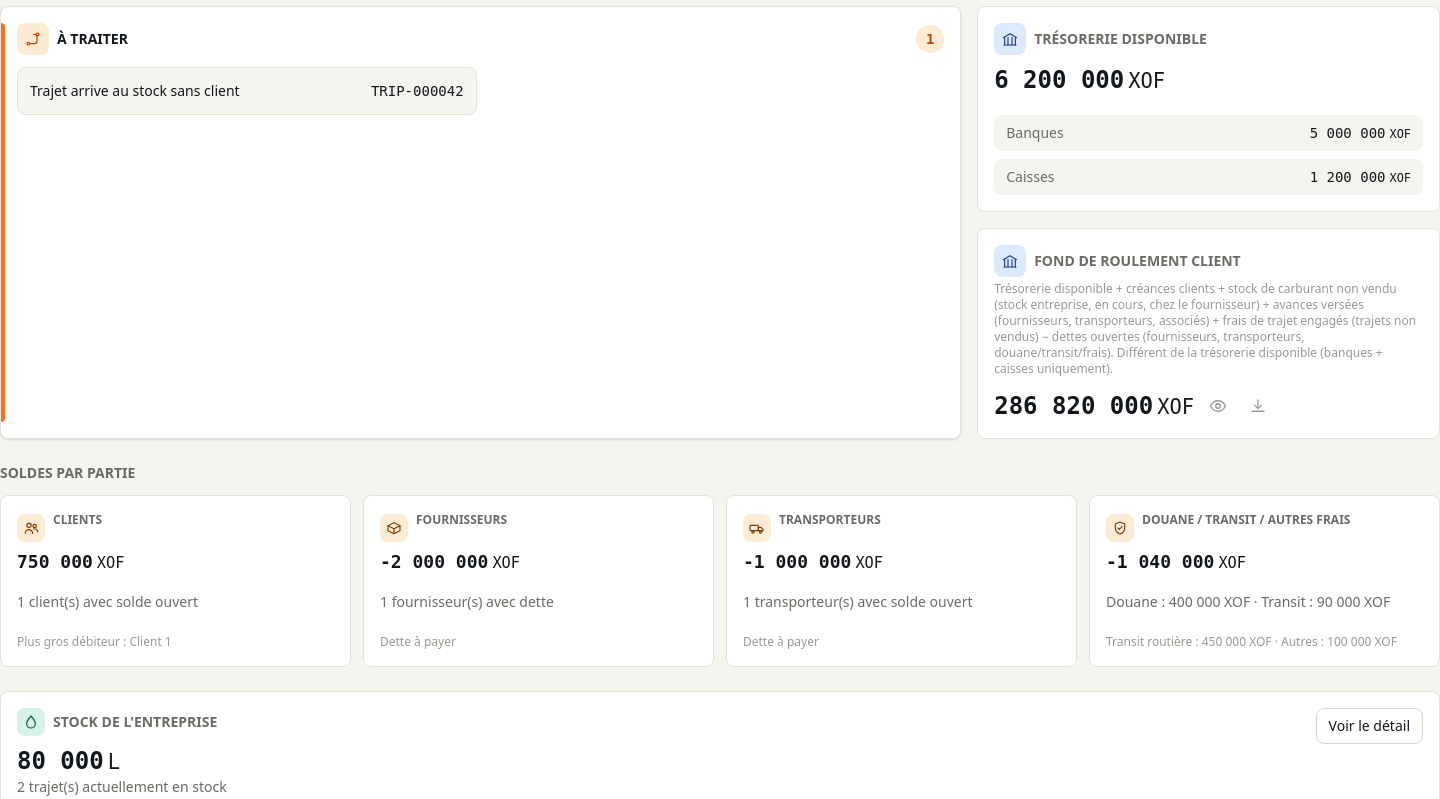
Test: DashboardView › deducts the open debts: 300M brut + 45M stock - 45M - 2.925M - 10.255M = 286.82M
(page scrolled)
Step 1. Click the button with test id "working-capital-toggle" → click(1218, 406), box [1202,390,1234,422]
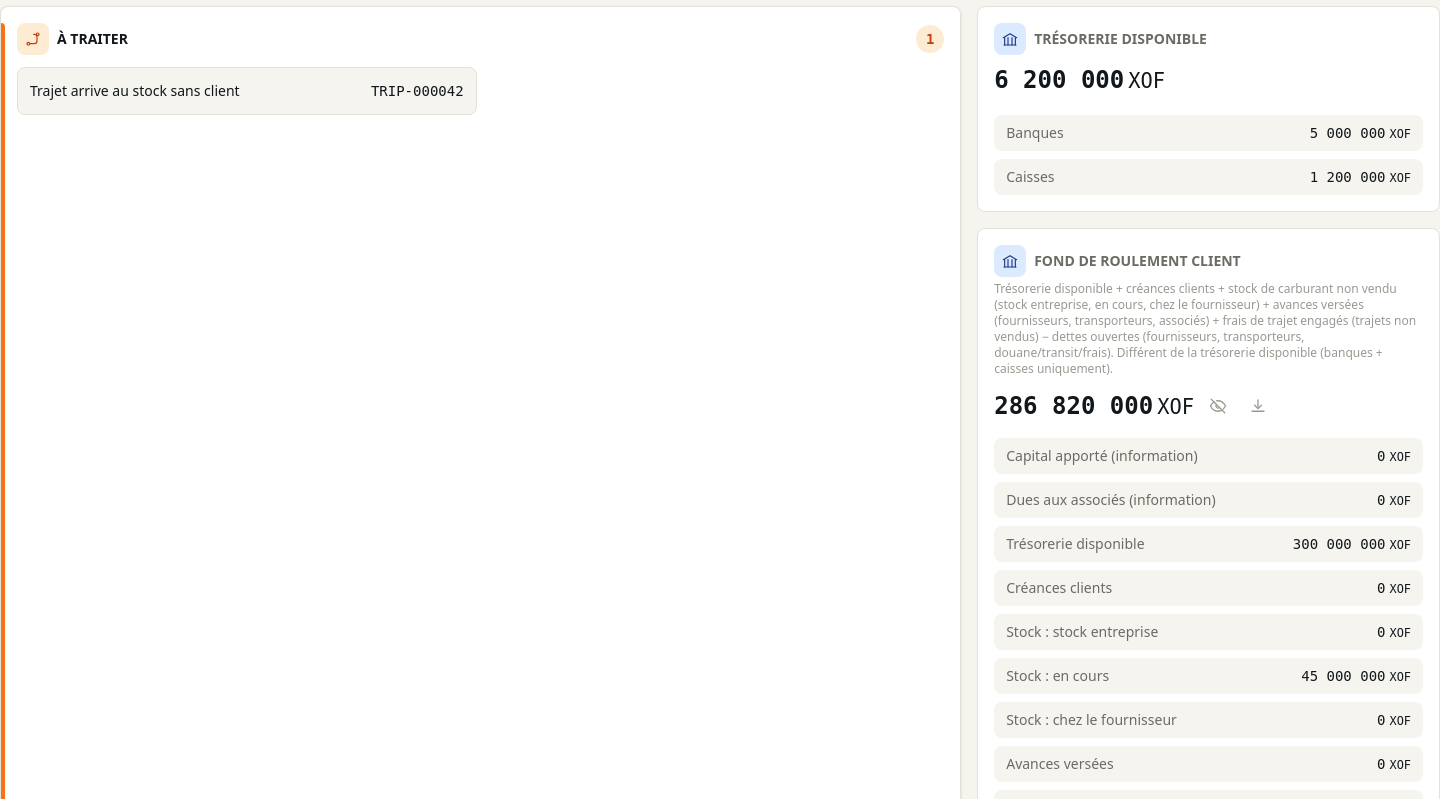
Now the element showing "Stock : en cours 45 000 000 XOF" is shown, box [994,658,1423,694]
